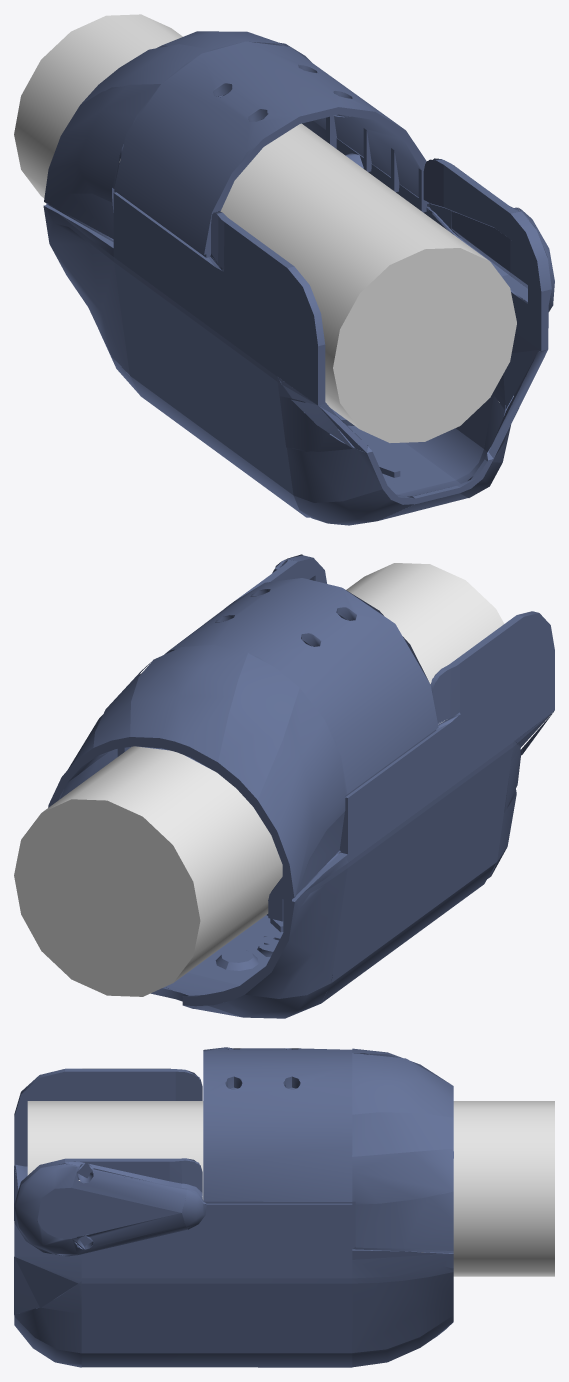
Rendered from icub_l_upper_arm.glb.
3 views of the same model, one above another, from view 1: azimuth 30°, elevation 25°; view 2: azimuth 150°, elevation 25°; view 3: azimuth 270°, elevation 25° (orthographic). The views are drawn at different scales.
Visible parts, largest first — view 1: l_upperarm_mesh.001, l_arm_cyl_mesh, l_upperarm_mesh; view 2: l_upperarm_mesh.001, l_arm_cyl_mesh, l_upperarm_mesh; view 3: l_upperarm_mesh.001, l_upperarm_mesh, l_arm_cyl_mesh.
Boxes of the visible parts, box(x1,y1,x2,y2) form: l_upperarm_mesh.001: box(44, 31, 554, 405); l_arm_cyl_mesh: box(14, 14, 516, 442); l_upperarm_mesh: box(43, 206, 547, 525); l_upperarm_mesh.001: box(48, 554, 554, 921); l_arm_cyl_mesh: box(14, 563, 504, 996); l_upperarm_mesh: box(151, 711, 553, 1018); l_upperarm_mesh.001: box(14, 1047, 453, 1283); l_upperarm_mesh: box(14, 1165, 453, 1367); l_arm_cyl_mesh: box(27, 1101, 554, 1276).
Size of the model in its own units: 0.0716 by 0.0916 by 0.1601.
